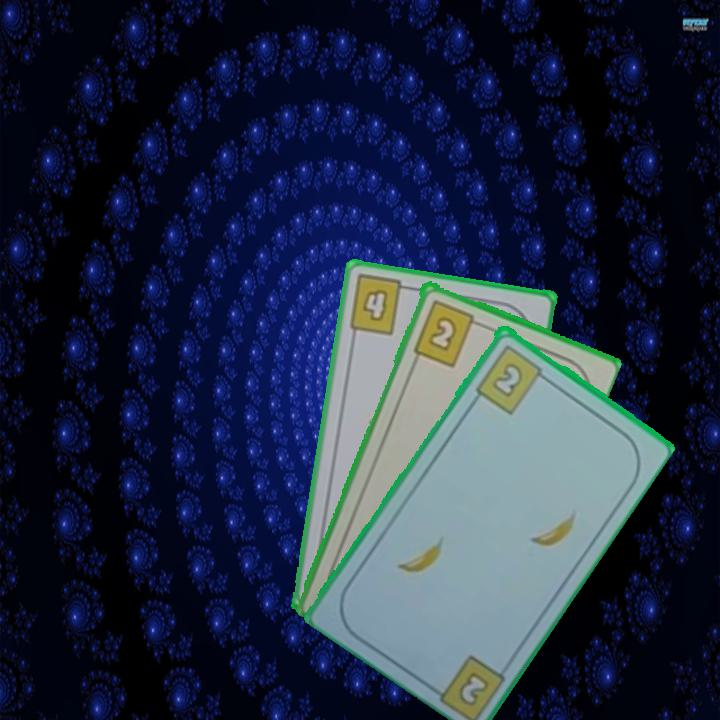2b: (472, 340, 551, 417), (409, 296, 485, 369), (454, 667, 493, 709)
4b: (345, 271, 416, 338)
